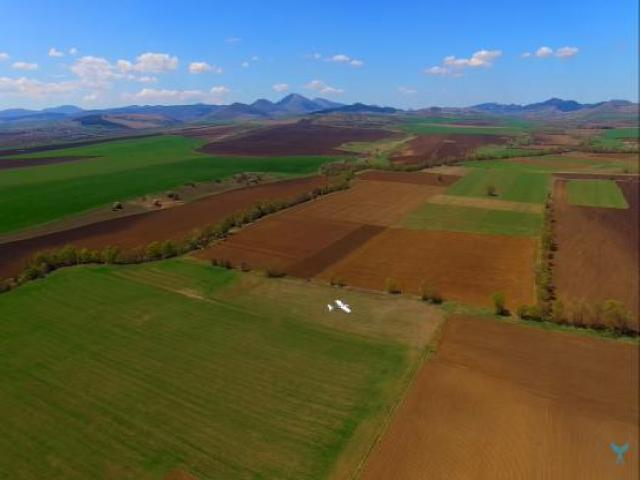uav: (321, 293, 357, 322)
